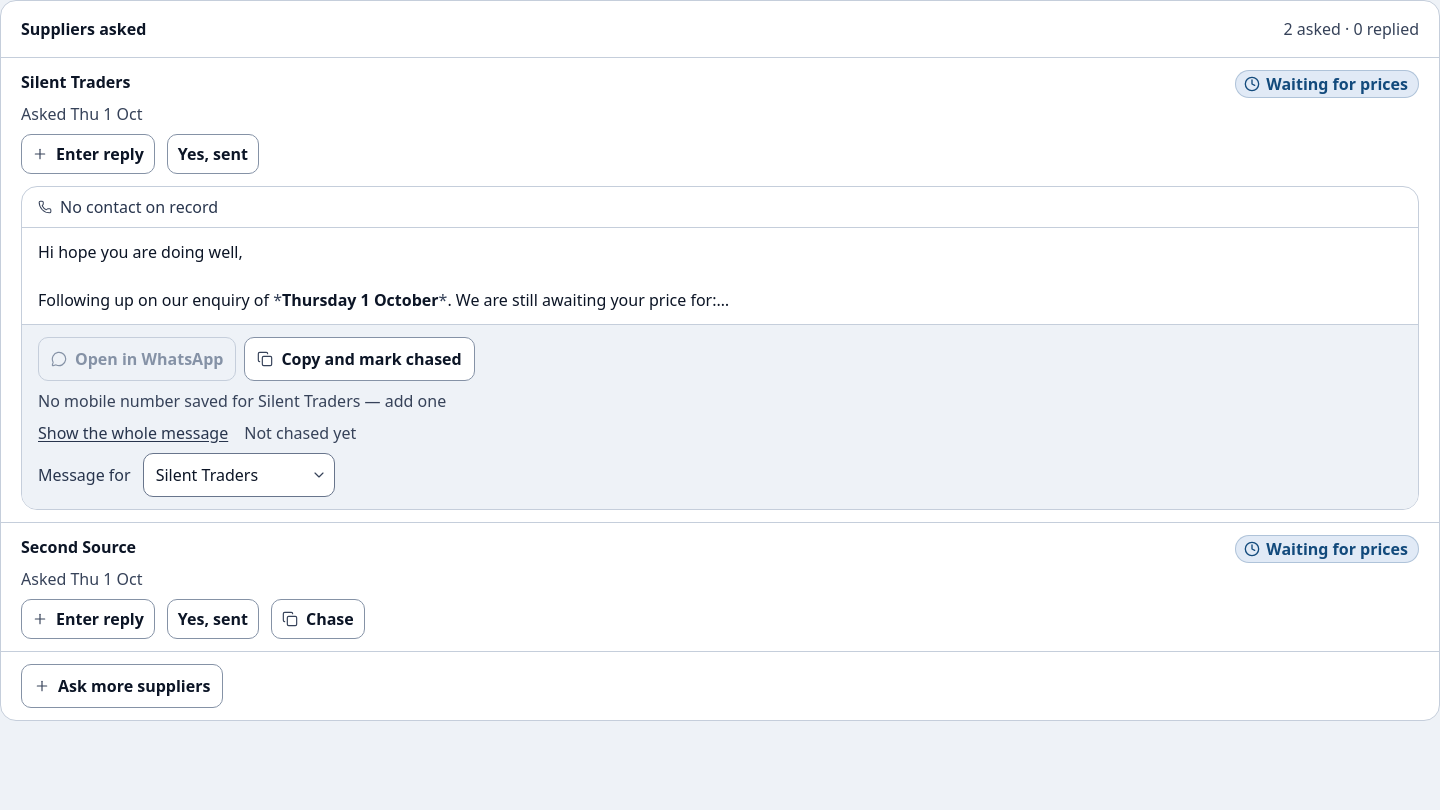
Test: SuppliersAsked: each supplier once, with its reply (grade-B R2, R3, R4) › waiting for prices: the others get Enter reply and Chase only; the card picker "Message for" switches it (grade-A 9)
The image size is (1440, 810).
Expected: the button with aria-label "Chase Second Source" is shown, [271,599,365,639]
Select "Second Source" in the dropdown labelled "Message for" at (239, 475), box [143,453,335,497]
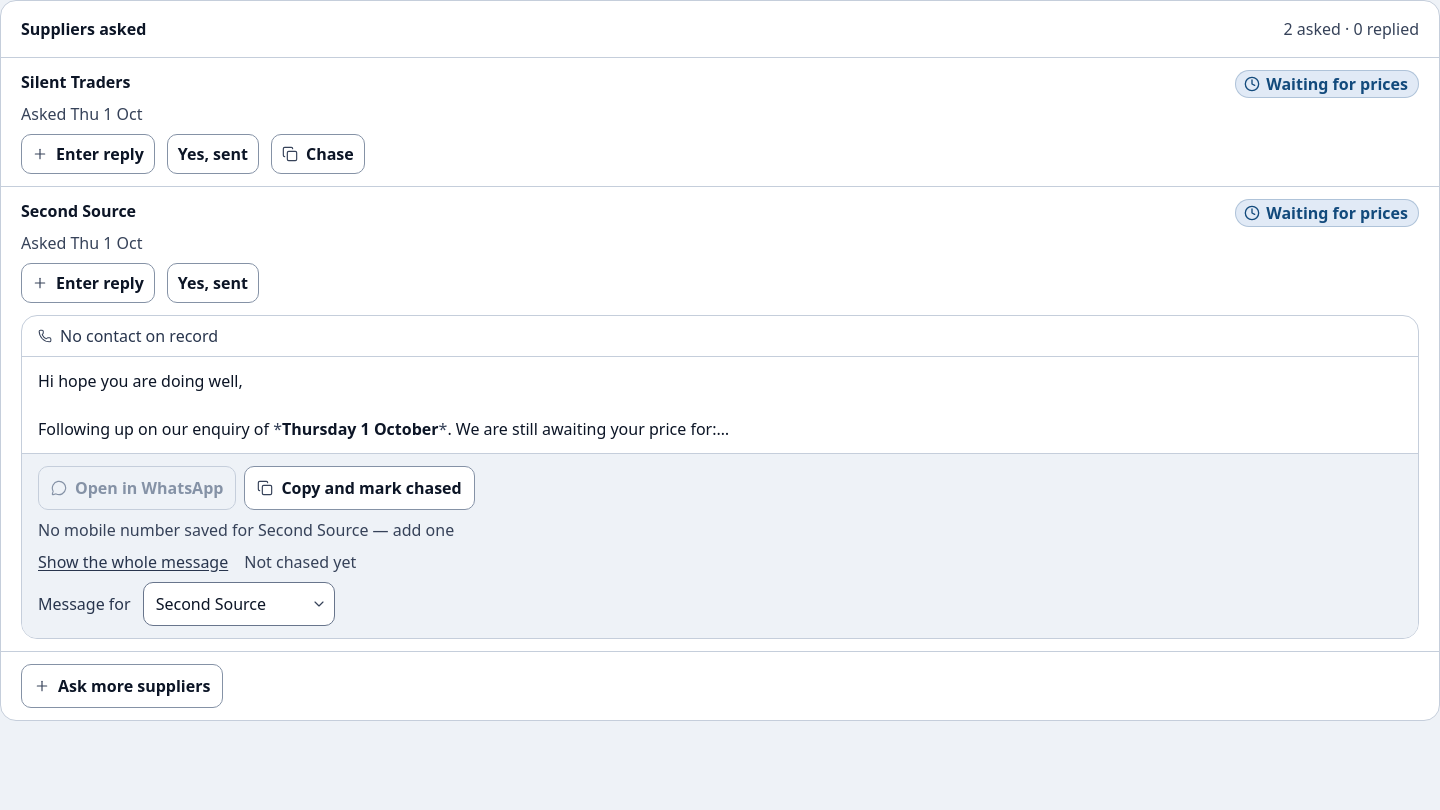
Result: the element named "Chase Second Source" is shown at [21,315,1419,639]
Result: the button with aria-label "Chase Silent Traders" is shown at [271,134,365,174]
